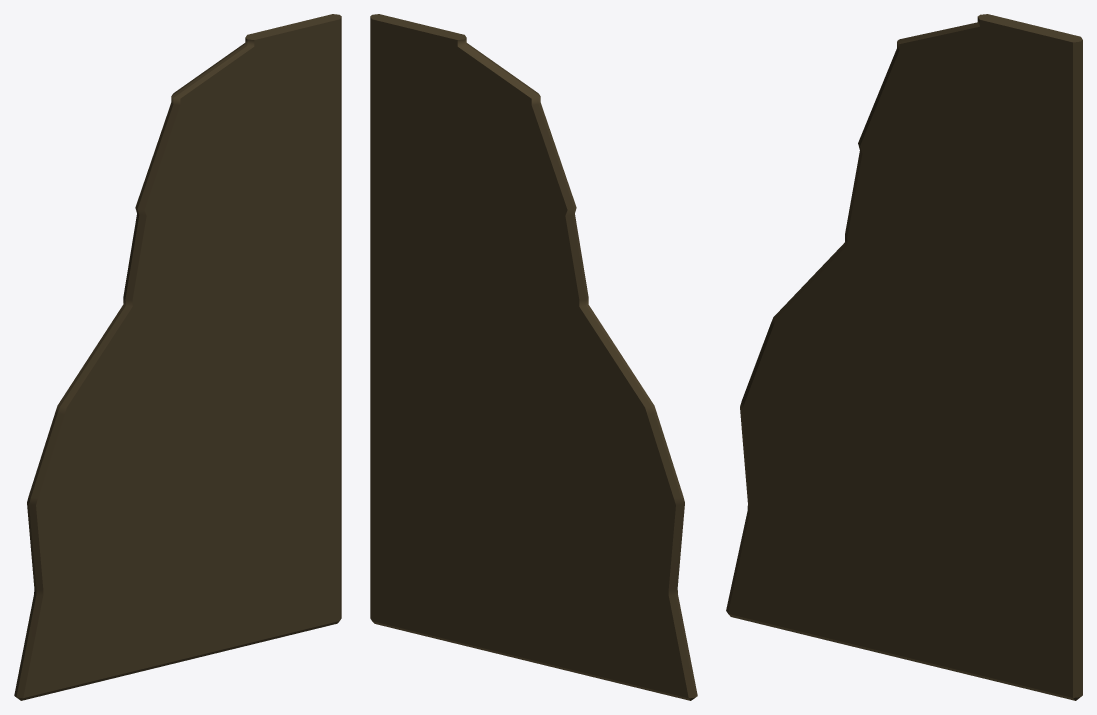
Rendered from Prop_Popup_SmallCliff_Animation.fbx.
3 renders of one model, left to right at view 1: azimuth 30°, elevation 25°; view 2: azimuth 150°, elevation 25°; view 3: azimuth 330°, elevation 25°, orthographic. The views are drawn at different scales.
Parts seen in each view (by area): view 1: FGCliff; view 2: FGCliff; view 3: FGCliff.
Part boxes in pixels (box(x1,y1,x2,y2)): FGCliff: box(14, 14, 341, 700); FGCliff: box(370, 14, 697, 700); FGCliff: box(726, 14, 1082, 700).
Bounding box in the file's own units: 2.07 × 3.69 × 0.0794.
